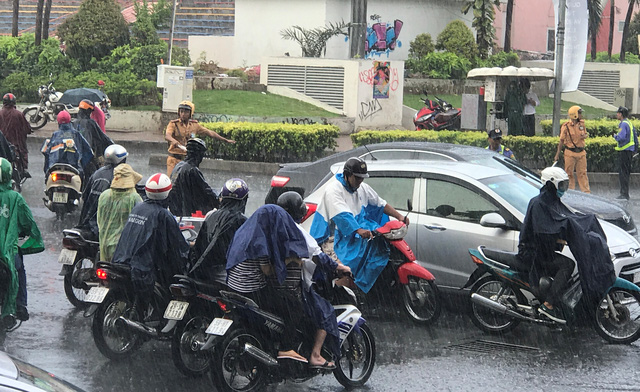police: (160, 98, 239, 185)
